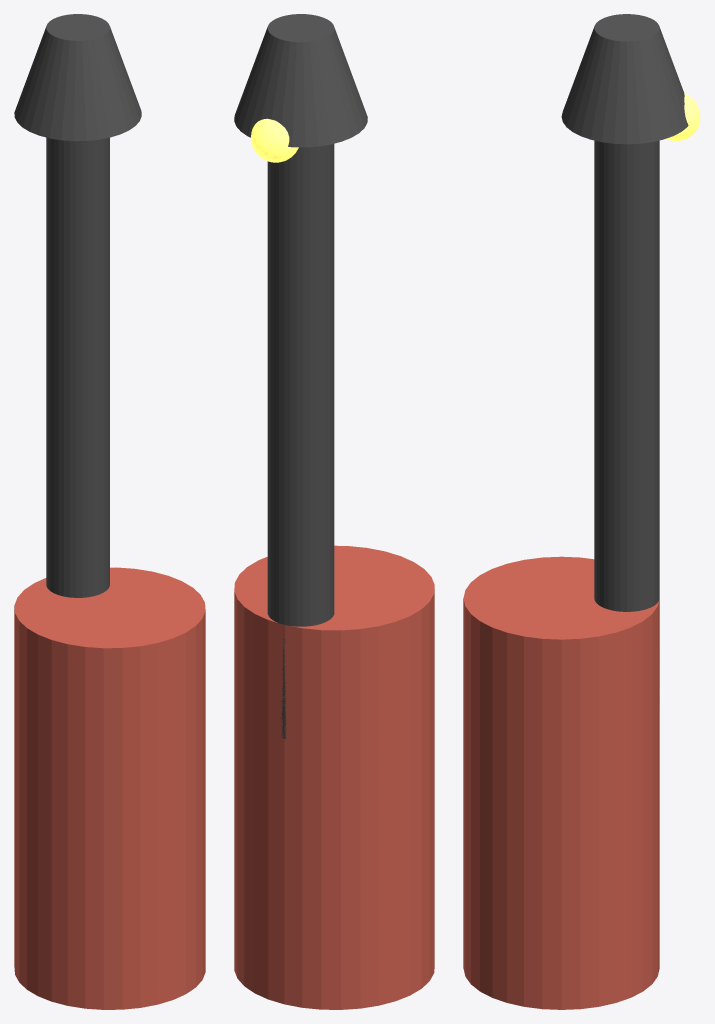
Rendered from flamethrower.glb.
3 renders of one model, left to right at view 1: azimuth 30°, elevation 25°; view 2: azimuth 150°, elevation 25°; view 3: azimuth 270°, elevation 25°, orthographic. The views are drawn at different scales.
Visible parts, largest first — view 1: Tank, Nozzle, NozzleTip; view 2: Tank, Nozzle, NozzleTip, PilotLight; view 3: Tank, Nozzle, NozzleTip, PilotLight.
Part boxes in pixels (<box>): Tank: <box>14,567,205,1009</box>; Nozzle: <box>46,137,109,597</box>; NozzleTip: <box>14,14,141,141</box>; Tank: <box>234,545,434,1009</box>; Nozzle: <box>267,144,334,738</box>; NozzleTip: <box>234,14,367,147</box>; PilotLight: <box>251,118,298,162</box>; Tank: <box>463,556,659,1009</box>; Nozzle: <box>594,140,659,709</box>; NozzleTip: <box>561,14,688,144</box>; PilotLight: <box>666,94,700,141</box>.
Size of the model in its own units: 0.12 by 0.635 by 0.145.
